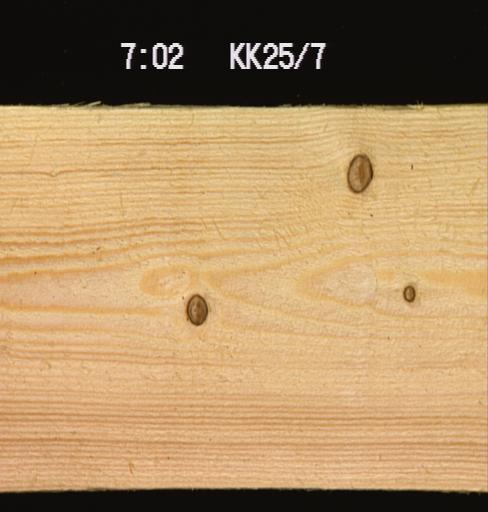dry_knot: (343, 150, 374, 194), (183, 291, 209, 327), (400, 281, 417, 303)
